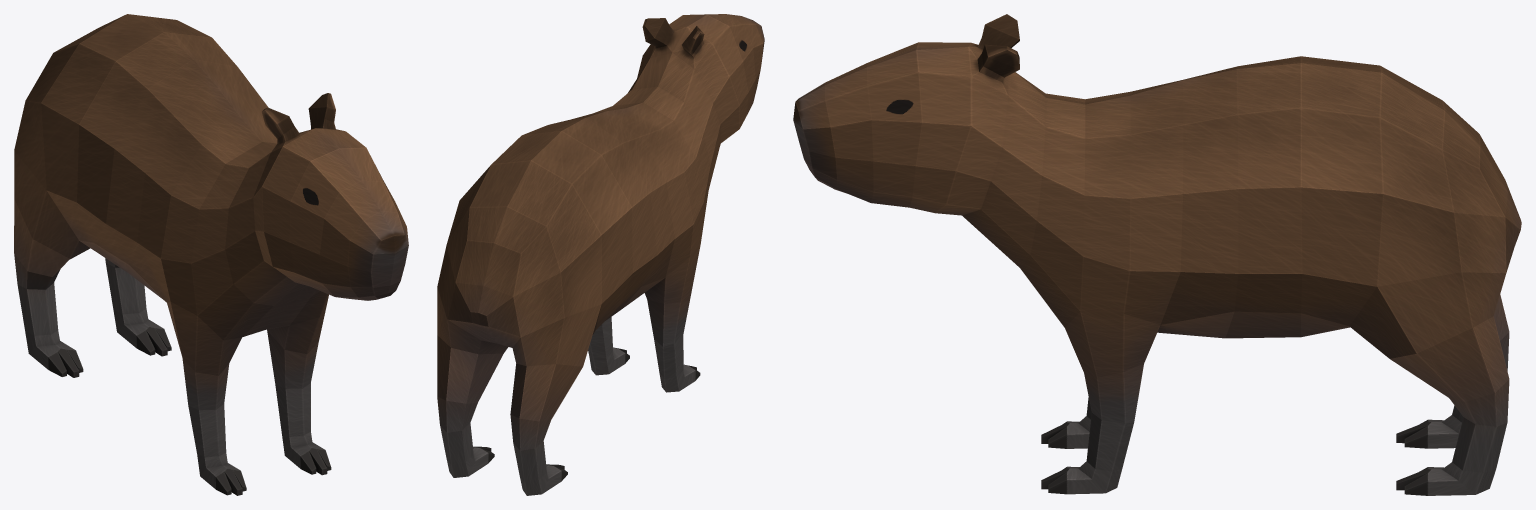
File: Capybara.fbx
3 renders of one model, left to right at view 1: azimuth 30°, elevation 25°; view 2: azimuth 150°, elevation 25°; view 3: azimuth 270°, elevation 25°, orthographic. The views are drawn at different scales.
Parts seen in each view (by area): view 1: Capybara; view 2: Capybara; view 3: Capybara.
Part boxes in pixels (box(x1,y1,x2,y2)): Capybara: box(14, 14, 408, 495); Capybara: box(437, 14, 764, 495); Capybara: box(793, 14, 1521, 495).
Size of the model in its own units: 216 by 472 by 716.
